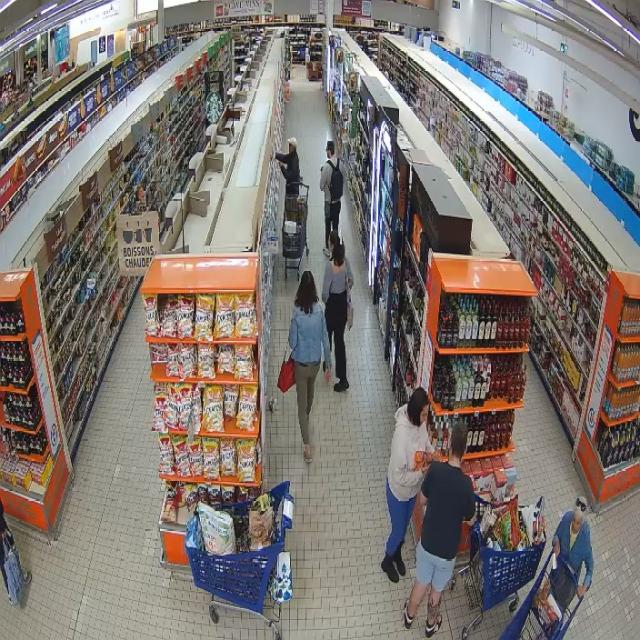article: (414, 450, 429, 471), (427, 452, 443, 466)
bags: (3, 537, 25, 605), (270, 552, 292, 603), (328, 159, 343, 202), (278, 357, 295, 393), (347, 286, 353, 328)
hands: (422, 454, 434, 473), (578, 585, 587, 598), (325, 367, 331, 383), (554, 541, 559, 555), (279, 162, 284, 167), (271, 152, 274, 159)
person: (403, 423, 475, 637), (381, 388, 434, 582), (289, 271, 330, 462), (322, 231, 353, 392), (552, 497, 593, 597), (320, 141, 342, 256), (275, 137, 300, 195), (0, 499, 14, 593)
